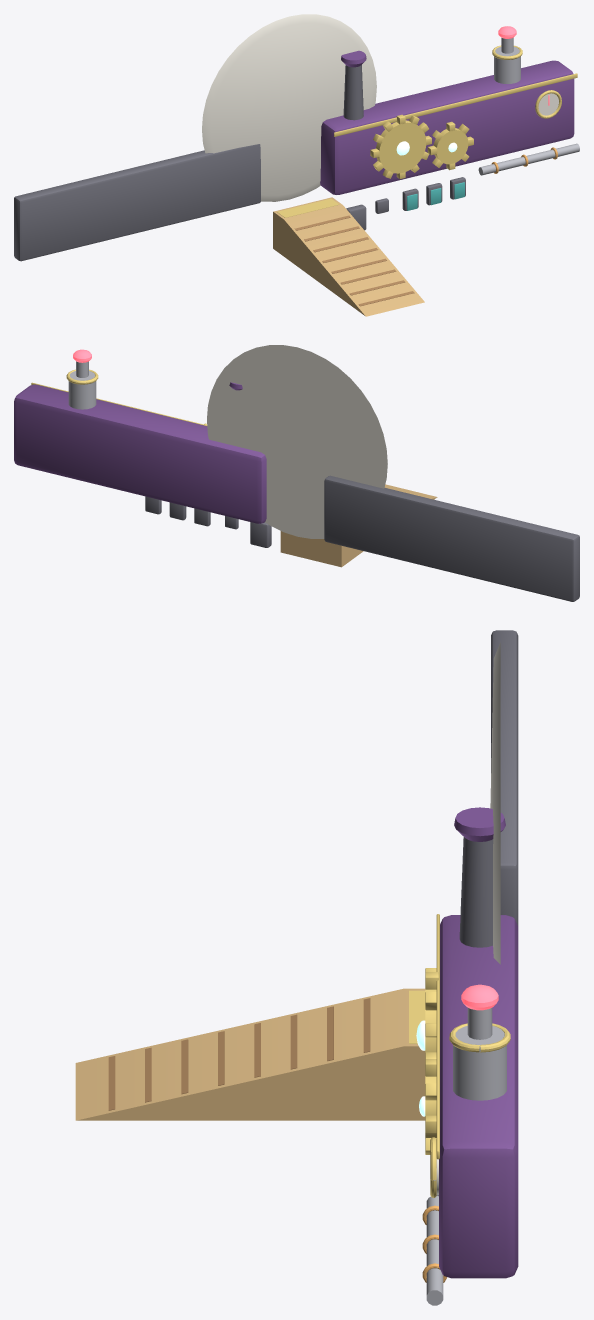
Rendered from ESC_HauntedBakery.fbx.
3 renders of one model, top to bottom at view 1: azimuth 30°, elevation 25°; view 2: azimuth 150°, elevation 25°; view 3: azimuth 270°, elevation 25°, orthographic. The views are drawn at different scales.
Parts seen in each view (by area): view 1: Body, Oven_Light, Ramp, Gear_A, Ramp_Treads, Gear_B, Piston_Rod; view 2: Body, Oven_Light, Ramp, Piston_Rod; view 3: Body, Ramp, Ramp_Treads, Oven_Light, Piston_Rod, Gear_A, Gear_B.
Part boxes in pixels (bbox=[...]): Body: bbox=[14, 45, 579, 261]; Oven_Light: bbox=[202, 14, 376, 201]; Ramp: bbox=[273, 197, 424, 316]; Gear_A: bbox=[370, 114, 431, 178]; Ramp_Treads: bbox=[277, 198, 414, 306]; Gear_B: bbox=[427, 121, 473, 170]; Piston_Rod: bbox=[498, 26, 516, 53]; Body: bbox=[14, 369, 579, 601]; Oven_Light: bbox=[207, 345, 387, 538]; Ramp: bbox=[280, 484, 437, 567]; Piston_Rod: bbox=[73, 349, 91, 377]; Body: bbox=[422, 630, 518, 1305]; Ramp: bbox=[75, 988, 425, 1120]; Ramp_Treads: bbox=[108, 990, 425, 1110]; Oven_Light: bbox=[490, 642, 500, 964]; Piston_Rod: bbox=[461, 984, 498, 1039]; Gear_A: bbox=[416, 968, 438, 1057]; Gear_B: bbox=[419, 1057, 436, 1154].
Size of the model in its own units: 46.05 by 17.4 by 16.2.
